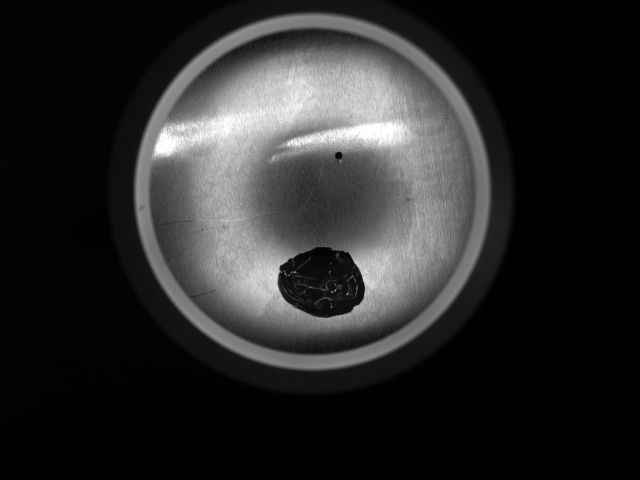zang_wu: (277, 243, 368, 316)
zhen_kong: (333, 150, 347, 166)
